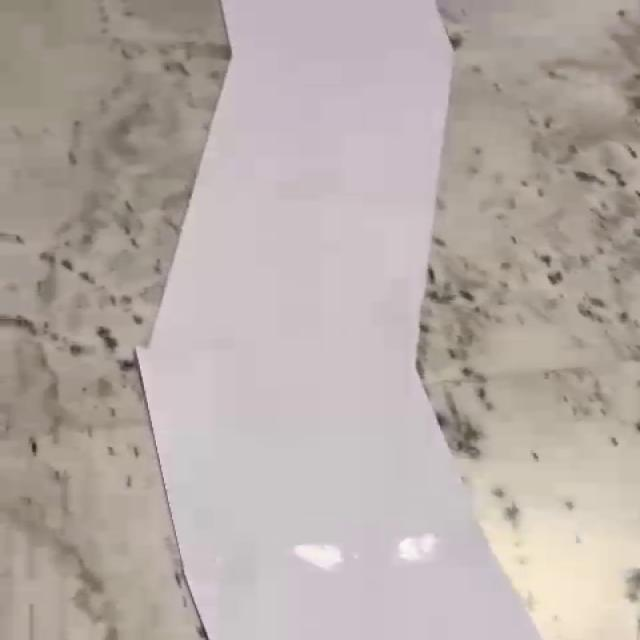road: (139, 0, 540, 640)
